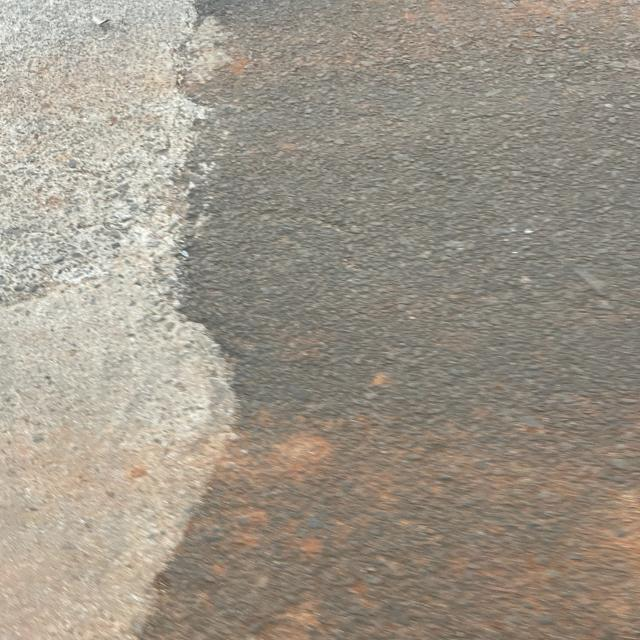D01: (130, 22, 298, 630)
D43: (305, 421, 640, 640)
